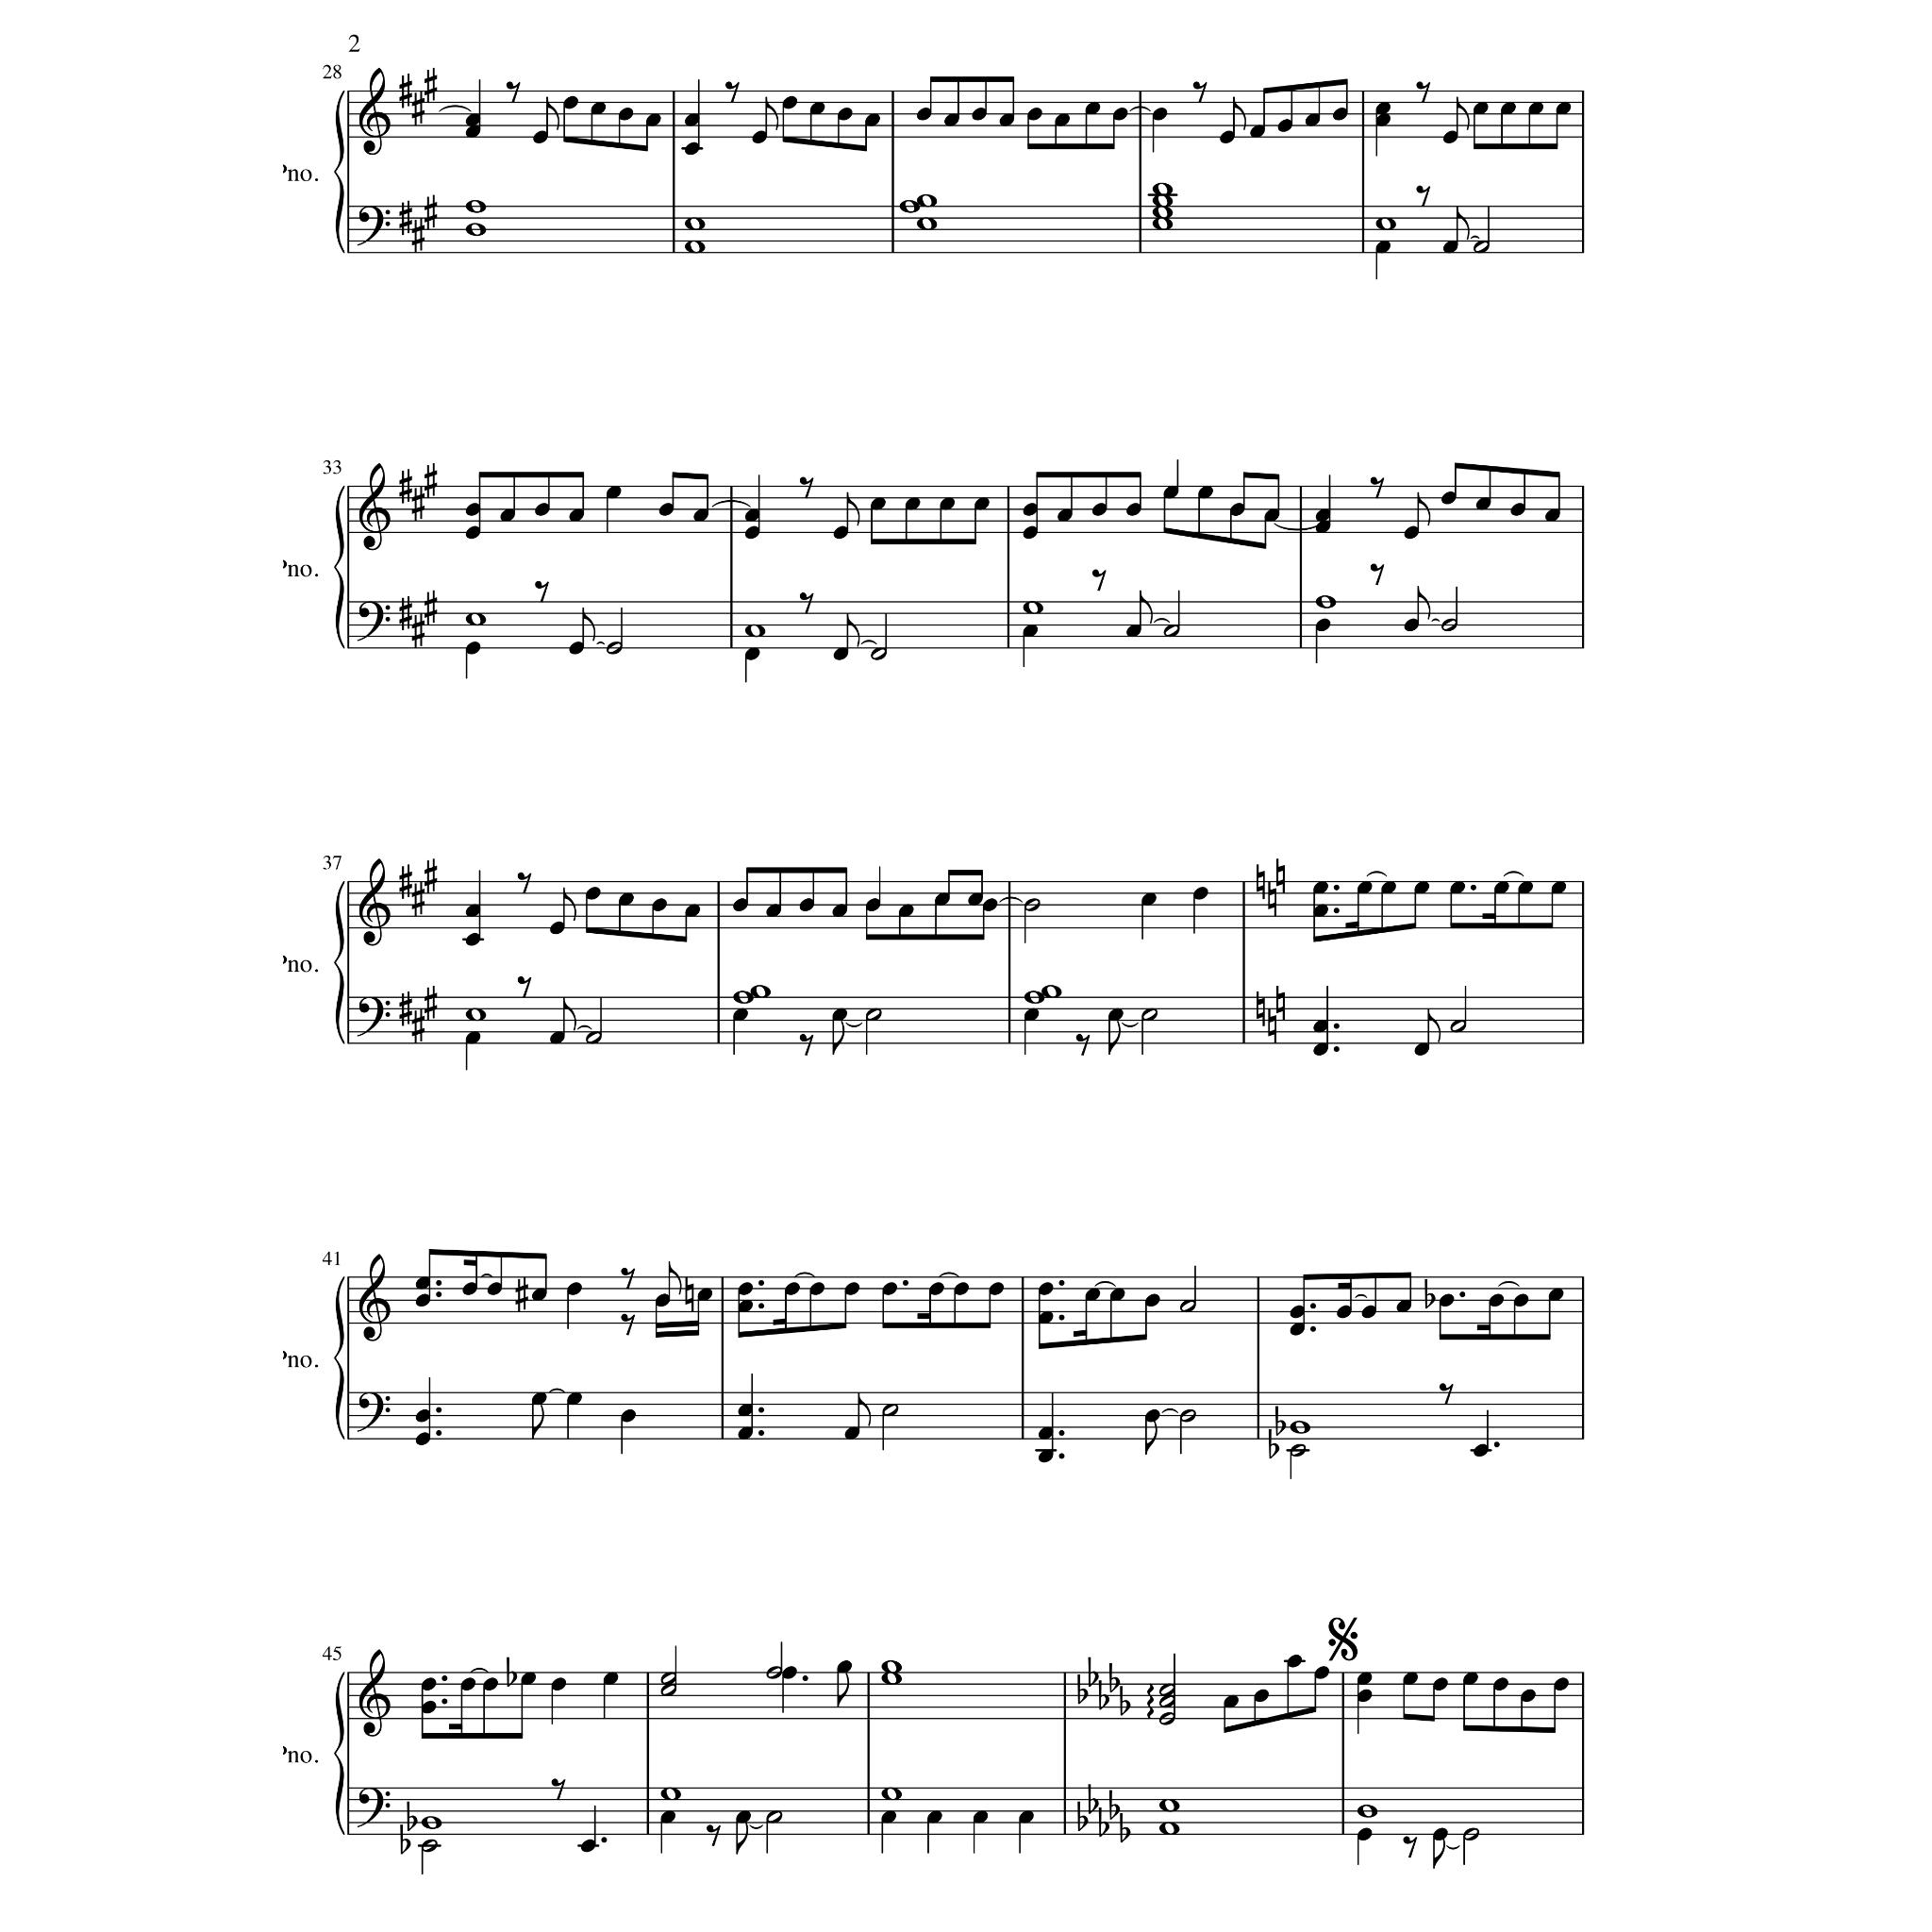brace: (333, 90, 344, 254), (333, 881, 344, 1045), (333, 1276, 344, 1441), (333, 1672, 344, 1836), (333, 487, 344, 649)
fClef: (357, 206, 391, 247), (357, 996, 391, 1038), (357, 1787, 391, 1828), (357, 602, 391, 641), (357, 1392, 391, 1432)
flag8thDown: (532, 1404, 545, 1440), (736, 1819, 749, 1855), (832, 1021, 845, 1055), (1145, 1421, 1158, 1455), (1109, 1021, 1121, 1055), (1434, 1835, 1445, 1869), (838, 1674, 849, 1707)
flag8thUp: (1233, 97, 1246, 131), (1457, 207, 1470, 241), (1457, 97, 1470, 131), (546, 97, 559, 131), (765, 97, 778, 131), (1140, 591, 1153, 625), (1417, 587, 1430, 621), (1417, 492, 1430, 526), (582, 608, 595, 642), (846, 614, 859, 648), (846, 492, 859, 526), (1427, 1009, 1441, 1043), (563, 997, 576, 1031), (563, 888, 576, 922), (669, 1261, 682, 1295), (858, 1393, 871, 1427)
gClef: (358, 67, 391, 156), (358, 463, 391, 552), (358, 858, 391, 947), (358, 1254, 391, 1342), (358, 1648, 391, 1737)
noteheadBlack: (904, 496, 921, 511), (974, 496, 991, 511), (1143, 1292, 1160, 1307), (1438, 1292, 1455, 1307), (1277, 119, 1292, 134), (1475, 496, 1491, 511), (940, 496, 955, 511), (871, 496, 886, 511), (1313, 1019, 1328, 1034), (1513, 1292, 1528, 1307), (1489, 1292, 1504, 1307), (655, 1292, 670, 1307), (415, 1292, 430, 1307), (421, 1700, 436, 1715), (1249, 125, 1266, 139), (1219, 131, 1236, 144), (1026, 108, 1043, 121), (1304, 113, 1321, 126), (1111, 108, 1128, 121), (1151, 108, 1168, 121), (1555, 102, 1572, 115), (1500, 102, 1517, 115), (617, 108, 634, 121), (683, 142, 700, 156), (562, 96, 579, 109), (683, 113, 700, 126), (464, 113, 481, 126), (464, 125, 481, 139), (751, 131, 768, 144), (1228, 503, 1245, 516), (1091, 503, 1108, 516), (1057, 509, 1074, 523), (1162, 486, 1179, 499), (1509, 503, 1526, 516), (1440, 491, 1457, 505), (606, 486, 623, 499), (568, 641, 585, 655), (568, 509, 585, 523), (743, 647, 760, 660), (743, 509, 760, 523), (743, 526, 760, 540), (692, 509, 709, 523), (464, 526, 481, 540), (464, 503, 481, 516), (534, 503, 551, 516), (464, 641, 481, 655), (832, 647, 849, 660), (832, 526, 849, 540), (1192, 887, 1209, 900), (981, 898, 998, 911), (934, 892, 951, 906), (1517, 881, 1534, 894), (1357, 881, 1374, 894), (1449, 881, 1466, 894), (1413, 1042, 1430, 1056), (1413, 881, 1430, 894), (617, 892, 634, 906), (585, 887, 602, 900), (549, 1031, 566, 1044), (732, 898, 749, 911), (732, 1008, 749, 1022), (549, 922, 566, 935), (651, 898, 668, 911), (464, 933, 481, 946), (464, 905, 481, 918), (464, 1031, 481, 1044), (864, 898, 881, 911), (798, 898, 815, 911), (1143, 1409, 1160, 1423), (1289, 1306, 1306, 1319), (1289, 1323, 1306, 1336), (1547, 1288, 1564, 1301), (1360, 1306, 1377, 1319), (1336, 1306, 1353, 1319), (566, 1392, 583, 1406), (566, 1282, 583, 1295), (530, 1392, 547, 1406), (530, 1288, 547, 1301), (843, 1426, 860, 1440), (843, 1282, 860, 1295), (783, 1282, 800, 1295), (953, 1282, 970, 1295), (881, 1282, 898, 1295), (696, 1288, 713, 1301), (1253, 1690, 1270, 1703), (1223, 1695, 1240, 1708), (1313, 1666, 1330, 1679), (972, 1810, 989, 1824), (1553, 1677, 1570, 1690), (1492, 1677, 1509, 1690), (1402, 1672, 1419, 1685), (1432, 1827, 1449, 1840), (1432, 1677, 1449, 1690), (579, 1840, 596, 1853), (602, 1672, 619, 1685), (836, 1660, 853, 1674), (781, 1666, 798, 1679), (1332, 108, 1347, 121), (1375, 241, 1391, 254), (1375, 102, 1391, 115), (1375, 113, 1391, 126), (1085, 102, 1100, 115), (1055, 113, 1070, 126), (1528, 102, 1543, 115), (1474, 102, 1489, 115), (1443, 241, 1458, 254), (1443, 131, 1458, 144), (645, 113, 660, 126), (591, 102, 606, 115), (533, 131, 548, 144), (943, 113, 958, 126), (917, 108, 932, 121), (864, 113, 879, 126), (972, 108, 987, 121), (782, 96, 797, 109), (999, 113, 1014, 126), (838, 108, 853, 121), (809, 102, 824, 115), (1264, 509, 1279, 523), (1198, 486, 1213, 499), (1315, 619, 1330, 632), (1315, 509, 1330, 523), (1315, 521, 1330, 534), (1126, 625, 1141, 638), (1126, 503, 1141, 516), (1545, 509, 1560, 523), (1404, 526, 1419, 540), (1404, 619, 1419, 632), (658, 503, 674, 516), (500, 509, 515, 523), (1023, 625, 1038, 638), (1023, 503, 1038, 516), (1023, 526, 1038, 540), (1141, 892, 1157, 906), (1108, 1008, 1123, 1022), (1313, 1042, 1328, 1056), (1313, 881, 1328, 894), (1313, 905, 1328, 918), (968, 892, 983, 906), (1024, 1008, 1039, 1022), (1551, 881, 1566, 894), (1494, 881, 1509, 894), (1381, 881, 1396, 894), (685, 905, 700, 918), (832, 1008, 847, 1022), (832, 905, 847, 918), (898, 905, 913, 918), (766, 905, 781, 918), (1038, 1426, 1053, 1440), (1038, 1450, 1053, 1463), (1038, 1282, 1053, 1295), (1038, 1311, 1053, 1324), (989, 1282, 1004, 1295), (1109, 1288, 1124, 1301), (1085, 1288, 1100, 1301), (1396, 1300, 1411, 1313), (1474, 1444, 1489, 1457), (621, 1409, 636, 1423), (415, 1276, 430, 1290), (487, 1282, 502, 1295), (462, 1282, 477, 1295), (415, 1409, 430, 1423), (415, 1432, 430, 1445), (809, 1282, 824, 1295), (928, 1282, 943, 1295), (738, 1404, 753, 1417), (738, 1426, 753, 1440), (738, 1282, 753, 1295), (738, 1300, 753, 1313), (1287, 1655, 1302, 1668), (1357, 1827, 1372, 1840), (1357, 1672, 1372, 1685), (1357, 1690, 1372, 1703), (1019, 1810, 1034, 1824), (1521, 1690, 1536, 1703), (926, 1810, 941, 1824), (1462, 1672, 1477, 1685), (551, 1677, 566, 1690), (521, 1672, 536, 1685), (660, 1810, 675, 1824), (421, 1677, 436, 1690), (483, 1677, 498, 1690), (460, 1677, 475, 1690), (881, 1810, 896, 1824), (736, 1810, 751, 1824)
noteheadHalf: (1450, 1019, 1467, 1034), (1158, 1711, 1175, 1726), (1473, 241, 1490, 254), (1163, 625, 1180, 638), (1441, 619, 1457, 632), (606, 641, 623, 655), (870, 647, 887, 660), (1141, 1008, 1158, 1022), (1024, 898, 1041, 911), (585, 1031, 602, 1044), (865, 1008, 882, 1022), (1179, 1409, 1196, 1423), (1179, 1300, 1196, 1313), (1289, 1444, 1306, 1457), (881, 1404, 898, 1417), (1158, 1683, 1175, 1696), (1158, 1695, 1175, 1708), (1462, 1827, 1479, 1840), (660, 1672, 677, 1685), (660, 1683, 677, 1696), (421, 1840, 438, 1853), (766, 1810, 783, 1824), (766, 1666, 783, 1679)
noteheadWhole: (1151, 206, 1174, 221), (464, 223, 487, 238), (464, 1008, 487, 1023), (1023, 600, 1043, 615), (1357, 1804, 1377, 1819), (660, 1787, 681, 1802), (421, 1815, 441, 1830), (881, 1787, 902, 1802), (1151, 183, 1174, 196), (1151, 194, 1174, 208), (1151, 218, 1174, 231), (683, 218, 706, 231), (683, 241, 706, 254), (464, 200, 487, 213), (898, 200, 921, 213), (743, 625, 766, 638), (464, 613, 487, 626), (1023, 991, 1045, 1004), (749, 985, 772, 998), (732, 991, 755, 1004), (1289, 1421, 1311, 1434), (1375, 218, 1396, 231), (917, 194, 938, 208), (917, 218, 938, 231), (1315, 595, 1336, 608), (1041, 985, 1062, 998), (1158, 1799, 1179, 1812), (1158, 1822, 1179, 1835), (881, 1672, 902, 1685), (881, 1660, 902, 1674)
rest8th: (1192, 81, 1207, 104), (1415, 81, 1430, 104), (1415, 186, 1430, 208), (724, 81, 740, 104), (506, 81, 521, 104), (1091, 569, 1107, 591), (1370, 563, 1385, 586), (1370, 476, 1385, 499), (534, 581, 549, 604), (799, 476, 814, 499), (799, 592, 814, 615), (1075, 1034, 1091, 1057), (517, 976, 532, 999), (517, 872, 532, 894), (799, 1034, 814, 1057), (1439, 1383, 1454, 1406), (621, 1267, 636, 1290), (621, 1313, 636, 1336), (1403, 1836, 1418, 1858), (551, 1778, 566, 1801), (706, 1824, 721, 1847)
